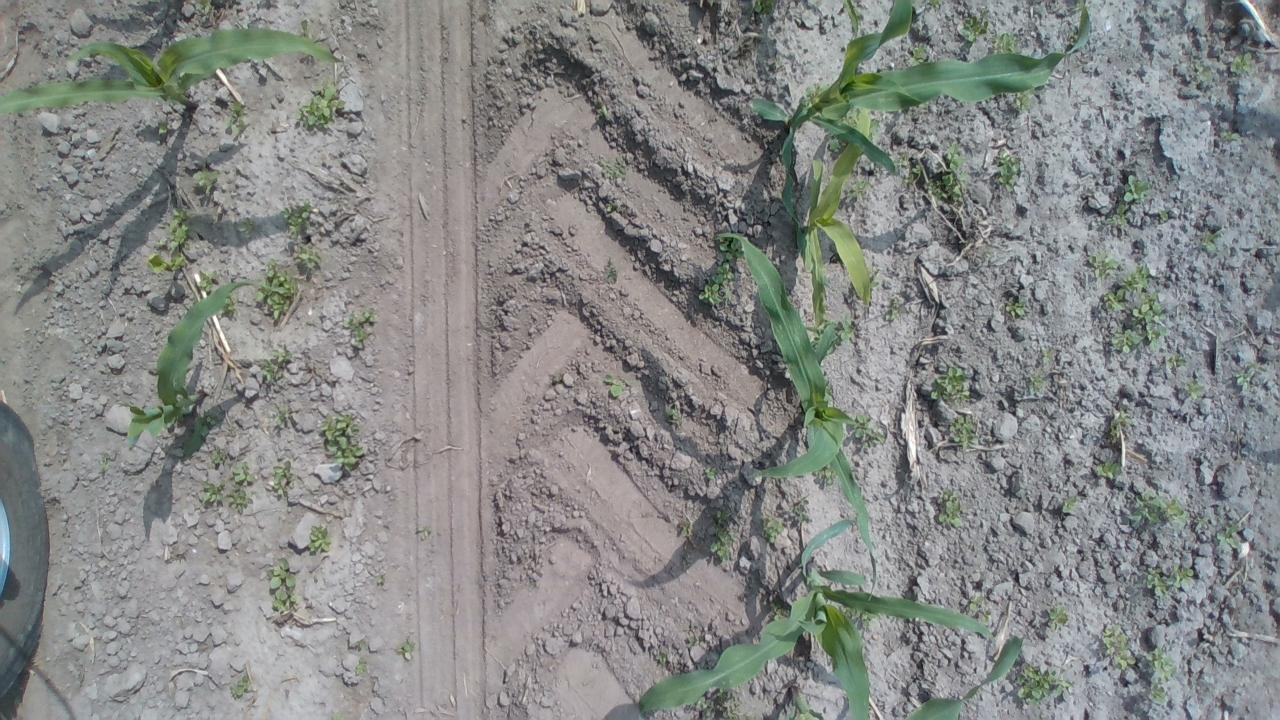Maize: (750, 0, 1100, 215), (636, 515, 1002, 720), (716, 229, 882, 556), (0, 26, 350, 117), (121, 271, 259, 457), (778, 104, 879, 330), (778, 633, 1030, 720)
Weeds: (146, 204, 196, 284), (904, 145, 968, 203), (321, 409, 368, 476), (255, 256, 298, 324), (1142, 560, 1200, 609), (1127, 488, 1196, 529), (1011, 659, 1072, 703), (296, 82, 348, 131), (1144, 640, 1182, 704), (266, 556, 304, 618), (926, 360, 974, 406), (941, 408, 986, 456), (195, 265, 239, 314), (709, 509, 742, 572), (1100, 622, 1138, 670), (282, 196, 322, 241), (934, 484, 970, 534), (343, 304, 383, 348), (1102, 404, 1140, 450), (1137, 297, 1174, 343), (695, 689, 747, 720), (268, 456, 302, 503), (844, 412, 882, 452), (717, 232, 748, 280), (231, 461, 260, 512), (187, 404, 220, 448), (258, 346, 294, 386), (756, 509, 789, 551), (1040, 603, 1078, 639), (698, 272, 732, 312), (193, 164, 231, 198), (996, 152, 1025, 195), (286, 241, 324, 273), (1118, 174, 1152, 209), (197, 476, 230, 512), (829, 310, 860, 348), (305, 519, 333, 558), (1176, 372, 1210, 404), (1088, 250, 1124, 280), (227, 668, 260, 700), (904, 44, 944, 70), (789, 496, 821, 528), (1098, 205, 1130, 236), (1228, 51, 1258, 84), (222, 99, 250, 134), (1004, 88, 1040, 115), (1121, 261, 1152, 292), (957, 7, 985, 40), (598, 152, 625, 185), (1100, 284, 1127, 316), (1110, 324, 1140, 352), (1090, 460, 1123, 485), (660, 401, 690, 428), (1197, 224, 1219, 260), (885, 292, 909, 325), (1217, 524, 1243, 554), (207, 441, 234, 468), (354, 656, 379, 685), (272, 402, 296, 432), (1058, 492, 1079, 524), (964, 596, 992, 620), (401, 634, 422, 664), (605, 374, 626, 404), (1025, 368, 1050, 393), (1160, 350, 1186, 374), (233, 216, 259, 240), (996, 30, 1018, 58), (592, 96, 612, 126), (1214, 126, 1240, 148), (1005, 295, 1031, 316), (601, 256, 619, 286), (1034, 347, 1060, 366), (1236, 369, 1254, 396), (814, 465, 836, 486), (704, 458, 724, 480), (370, 568, 388, 590), (859, 609, 874, 633), (418, 524, 436, 542), (605, 198, 623, 215), (1156, 206, 1168, 222)
